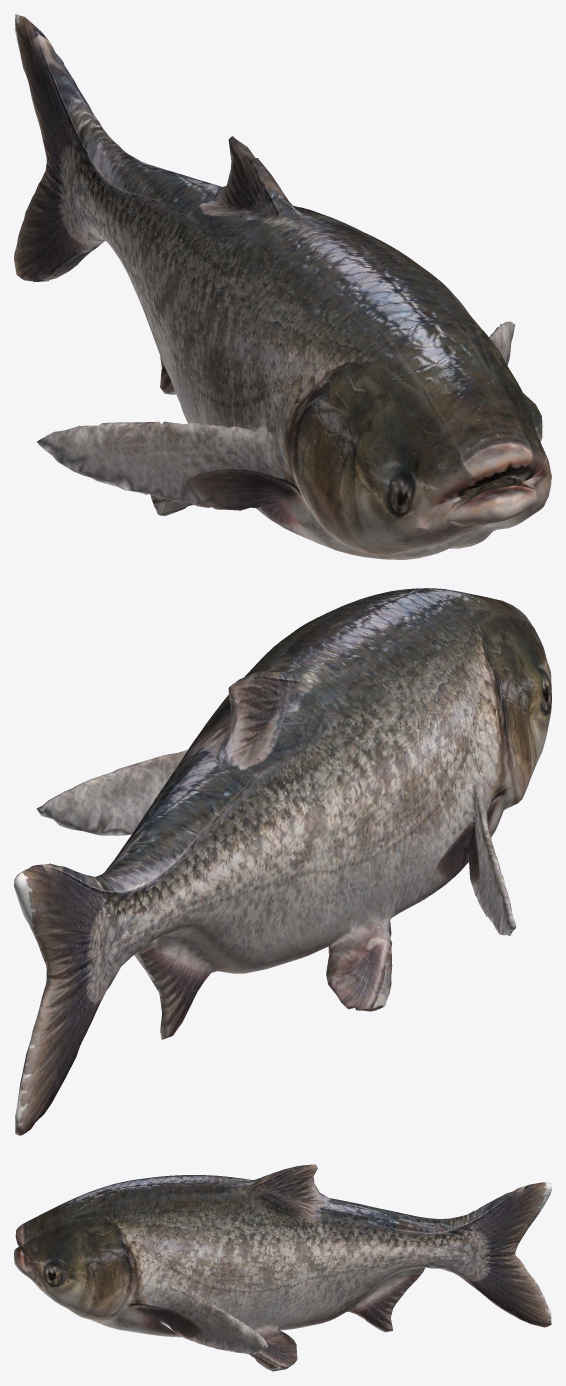
File: fish_silvercarp.glb
The picture shows the model from 3 angles, top to bottom: view 1: azimuth 30°, elevation 25°; view 2: azimuth 150°, elevation 25°; view 3: azimuth 270°, elevation 25°; orthographic projection. The views are drawn at different scales.
Visible parts, largest first — view 1: geometry_0; view 2: geometry_0; view 3: geometry_0.
Boxes of the visible parts, x1=… form: geometry_0: x1=14, y1=14, x2=551, y2=559; geometry_0: x1=14, y1=588, x2=551, y2=1135; geometry_0: x1=14, y1=1164, x2=551, y2=1371.
Bounding box in the file's own units: 1.1 × 0.7119 × 1.96.
1 material, 1 textured.
